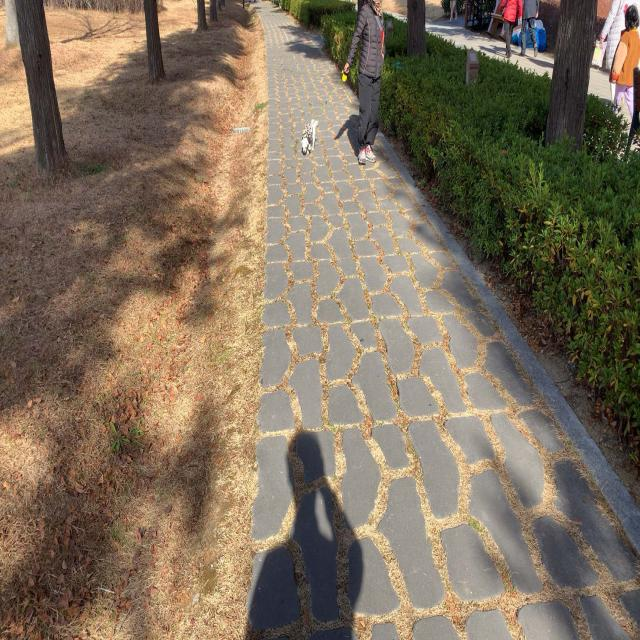Leashed_Dog: (300, 66, 372, 156)
